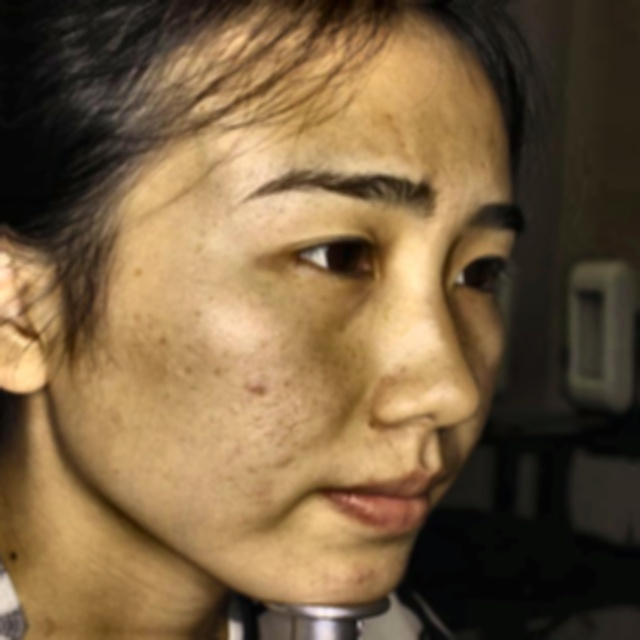comedone: (249, 374, 270, 407), (349, 566, 375, 592)
